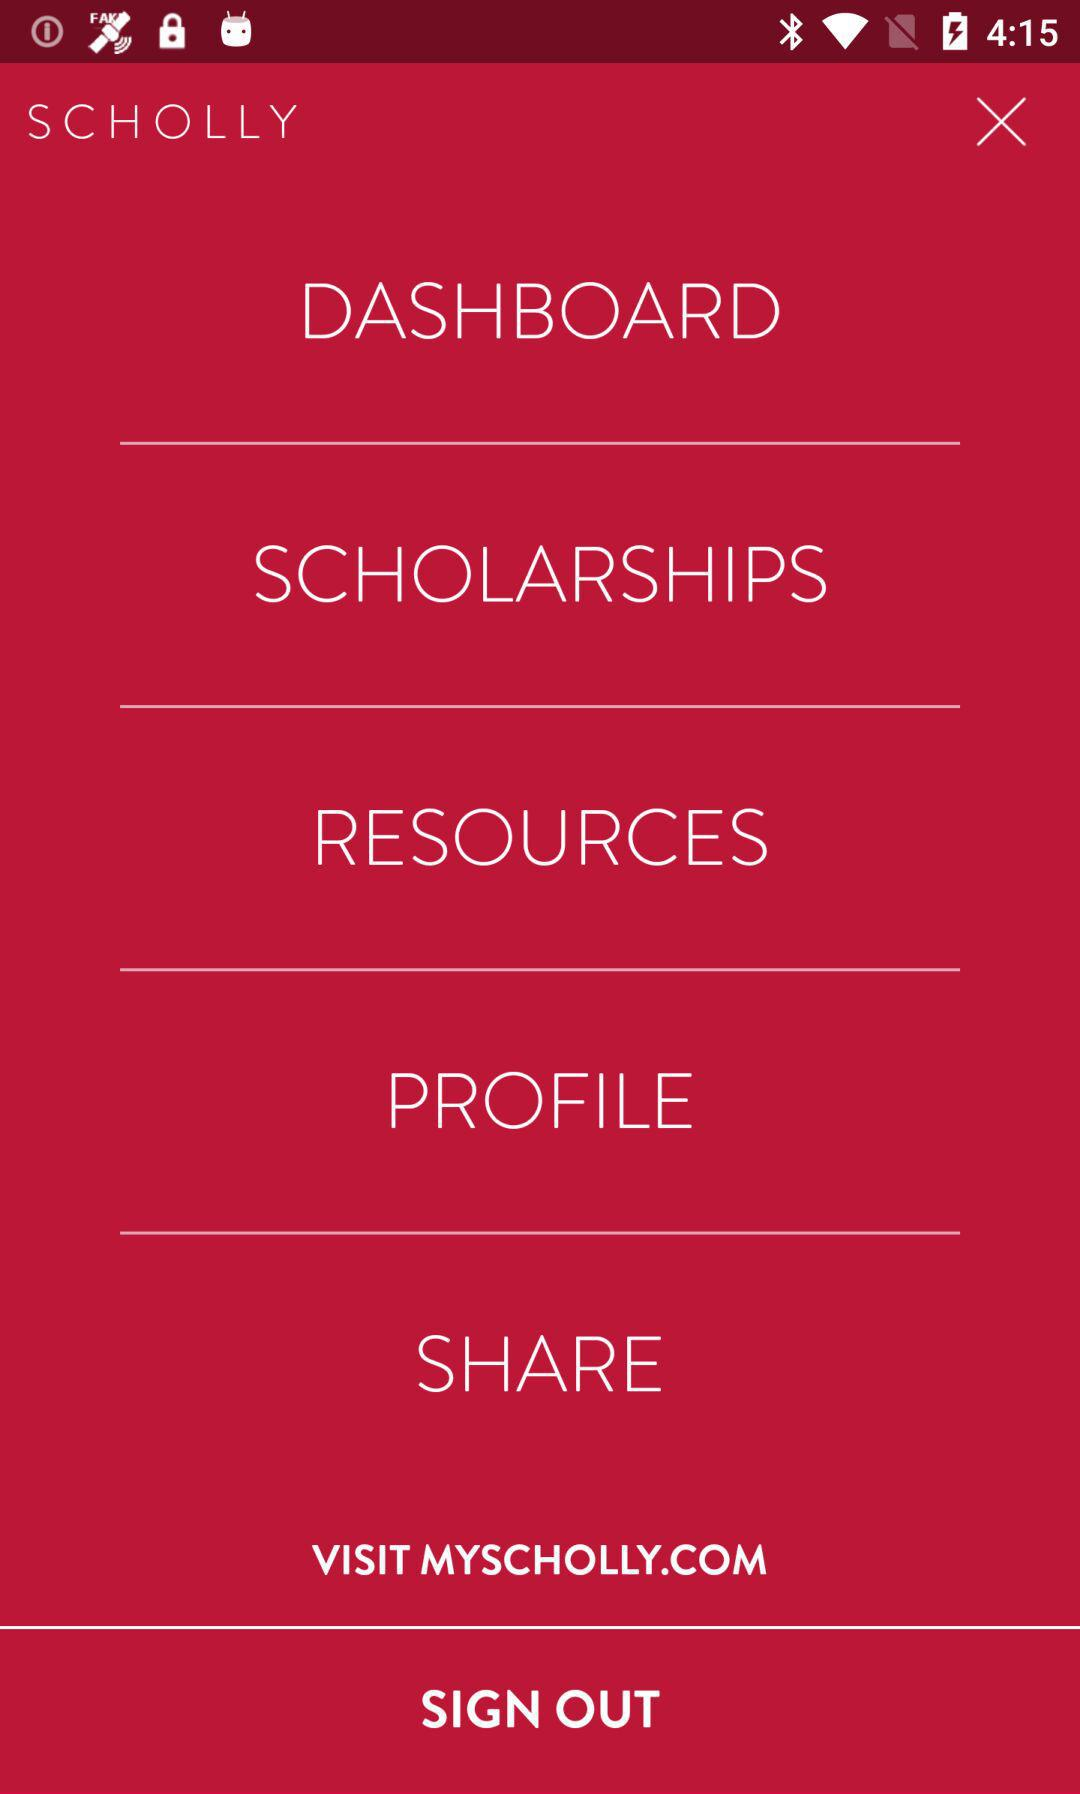Icon: (975, 97, 1027, 149)
Text: (255, 545, 828, 605), (304, 281, 781, 342), (318, 807, 769, 868), (389, 1070, 694, 1132), (311, 1542, 769, 1577), (416, 1333, 664, 1394), (28, 103, 299, 142)
TextButton: (1, 1626, 1080, 1794)
UpperTaskBar: (1, 1, 1080, 64)
